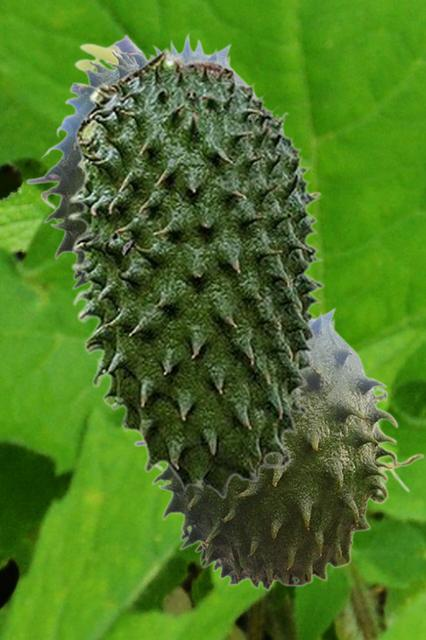guyabano: (67, 46, 325, 498), (133, 306, 424, 591), (25, 31, 321, 291)
